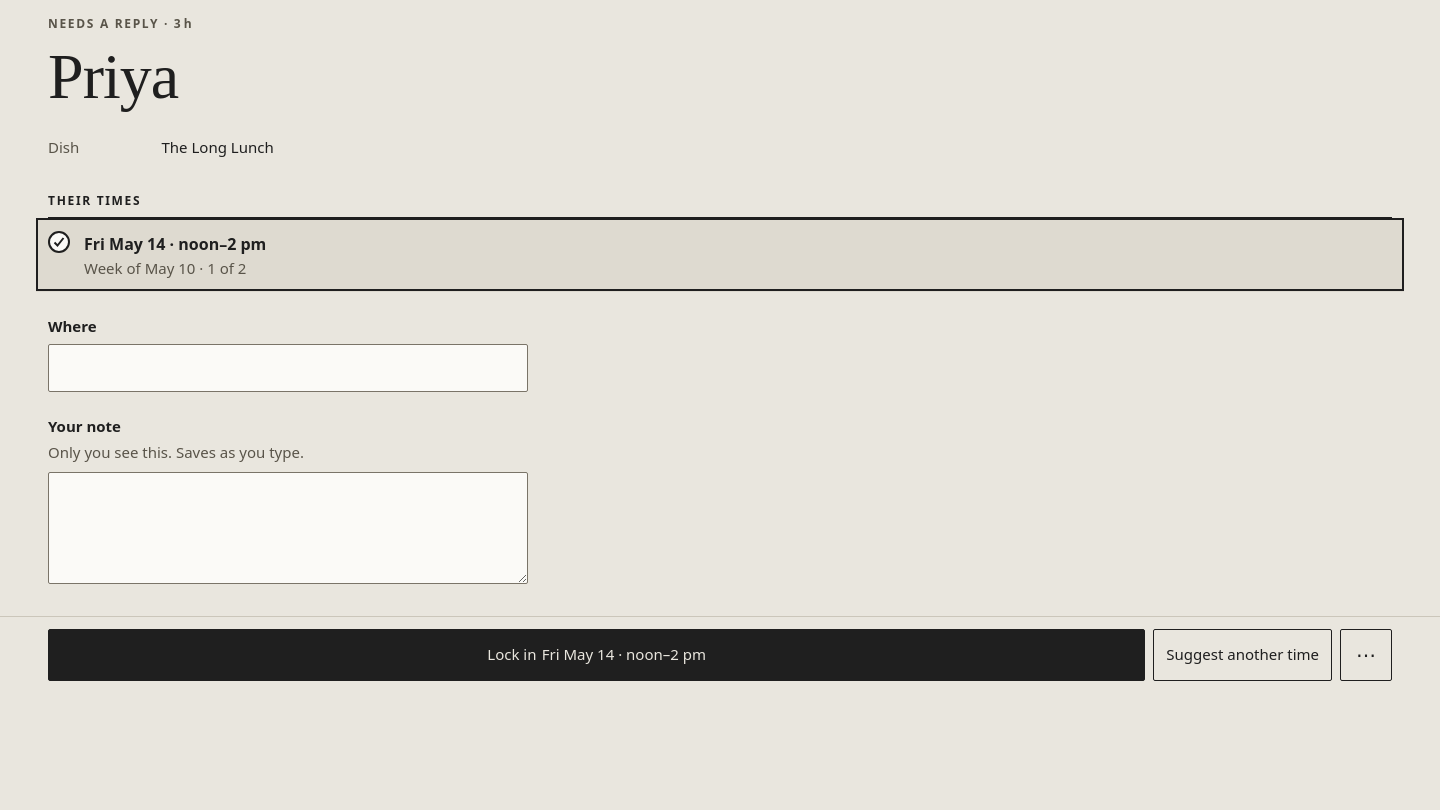
it: a stand-by request (Jon, 2026-10-04) › offers Lock in and Suggest like an open request, no Move to stand-by and no Before 60 box
The width and height of the screenshot is (1440, 810).
Check: the button "Lock in Fri May 14 · noon–2 pm" is shown, box [48, 629, 1145, 681]
Check: the button "Suggest another time" is shown, box [1153, 629, 1332, 681]
// the ⋯ menu (desktop) and the More sheet (phone) list Copy their email, never Move to stand-by
Click the button "⋯" at (1366, 655), box [1340, 629, 1392, 681]
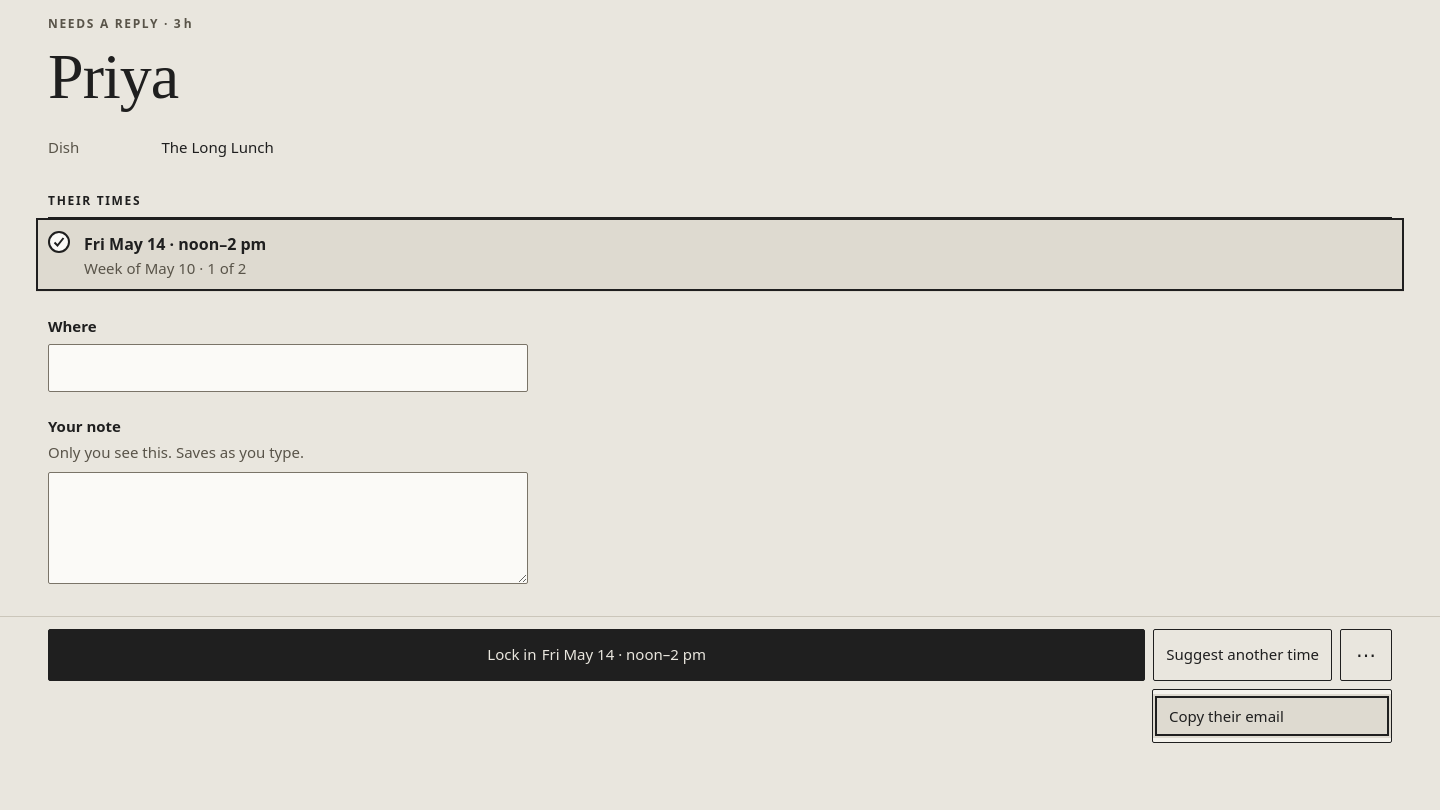
Check: the menu item "Copy their email" is shown, box [1153, 694, 1391, 738]
